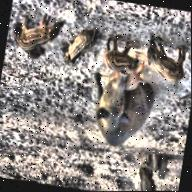boar: (77, 72, 150, 151), (15, 10, 65, 62), (139, 37, 189, 78), (55, 27, 98, 70), (98, 38, 141, 78)
